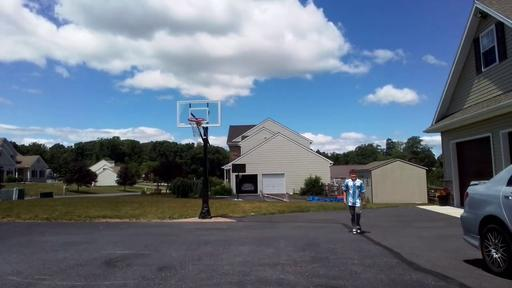human: (342, 170, 366, 236)
rim: (188, 118, 207, 137)
